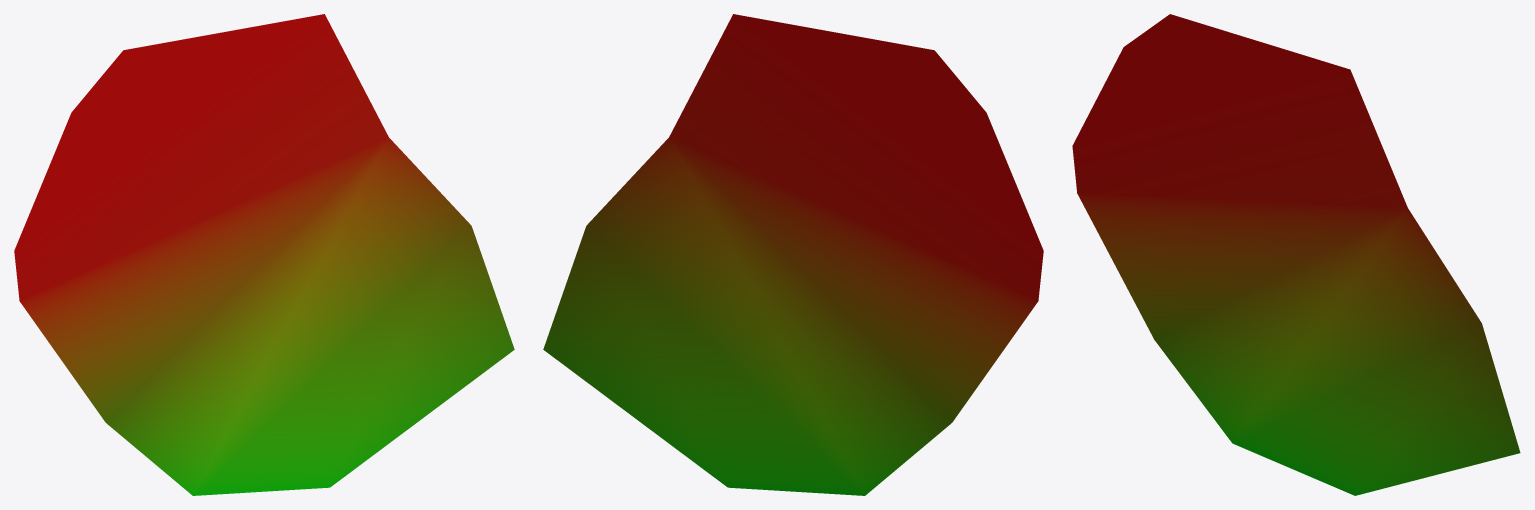
File: Var10_LOD6.fbx
The picture shows the model from 3 angles, left to right: view 1: azimuth 30°, elevation 25°; view 2: azimuth 150°, elevation 25°; view 3: azimuth 330°, elevation 25°; orthographic projection. The views are drawn at different scales.
Parts seen in each view (by area): view 1: _3abr_Var10_LOD6; view 2: _3abr_Var10_LOD6; view 3: _3abr_Var10_LOD6.
Part boxes in pixels (x1=…): _3abr_Var10_LOD6: x1=14, y1=14, x2=514, y2=495; _3abr_Var10_LOD6: x1=543, y1=14, x2=1043, y2=495; _3abr_Var10_LOD6: x1=1072, y1=14, x2=1520, y2=495.
Bounding box in the file's own units: 121 × 113 × 8.51e-06.
